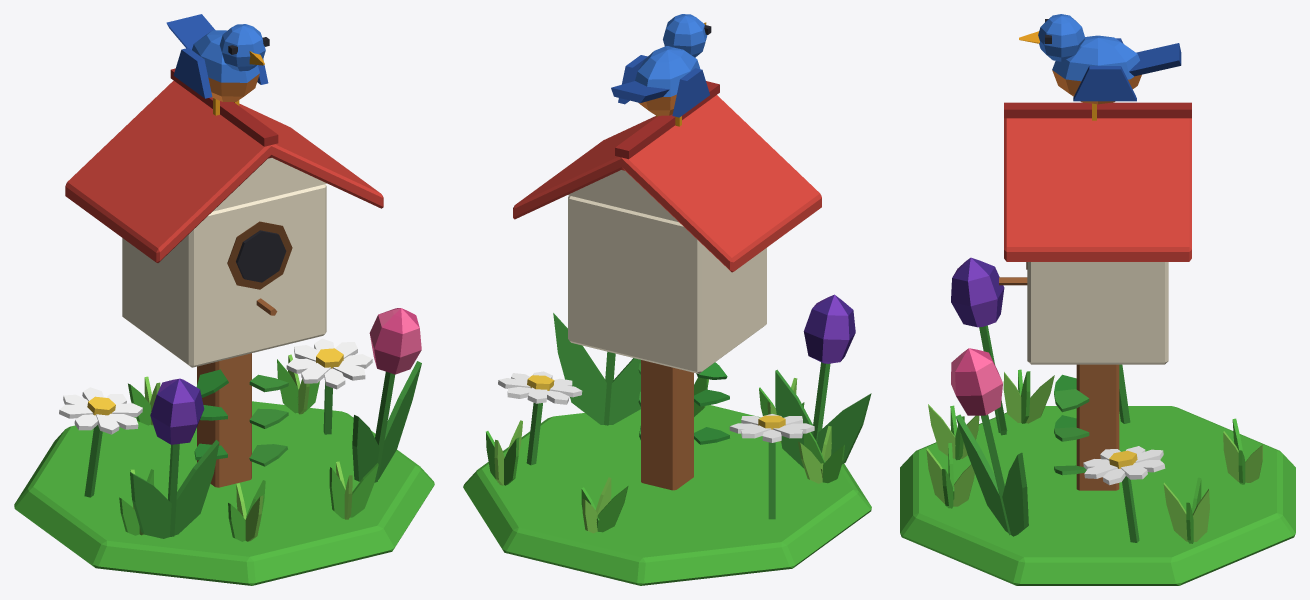
The model's file is birdhouse-1x1.glb.
3 views of the same model, side by side, from view 1: azimuth 30°, elevation 25°; view 2: azimuth 150°, elevation 25°; view 3: azimuth 270°, elevation 25° (orthographic). The views are drawn at different scales.
Visible parts, largest first — view 1: birdhouse-1x1; view 2: birdhouse-1x1; view 3: birdhouse-1x1.
Boxes of the visible parts, <box> form: birdhouse-1x1: <box>14,14,434,585</box>; birdhouse-1x1: <box>463,14,871,585</box>; birdhouse-1x1: <box>900,14,1295,585</box>.
Bounding box in the file's own units: 0.9 × 1.22 × 0.9.
Materials: 1 (1 with a texture image).
